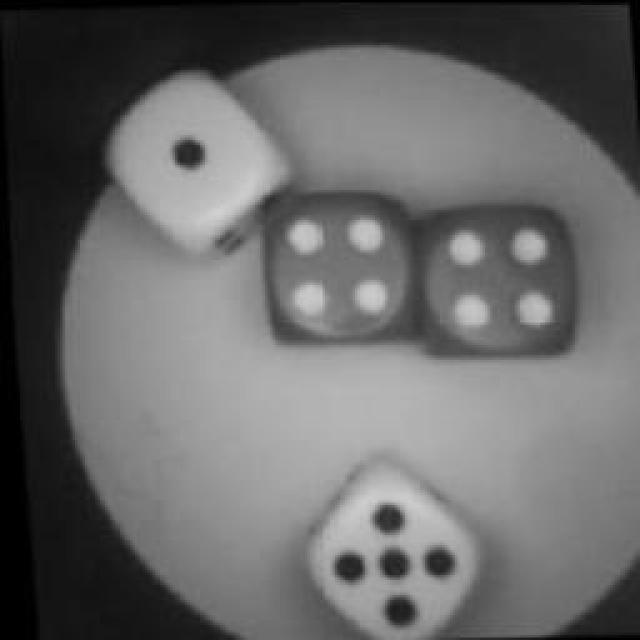dice_1: (104, 62, 291, 250)
dice_4: (400, 200, 585, 368), (252, 181, 428, 351)
dice_5: (288, 457, 483, 640)
